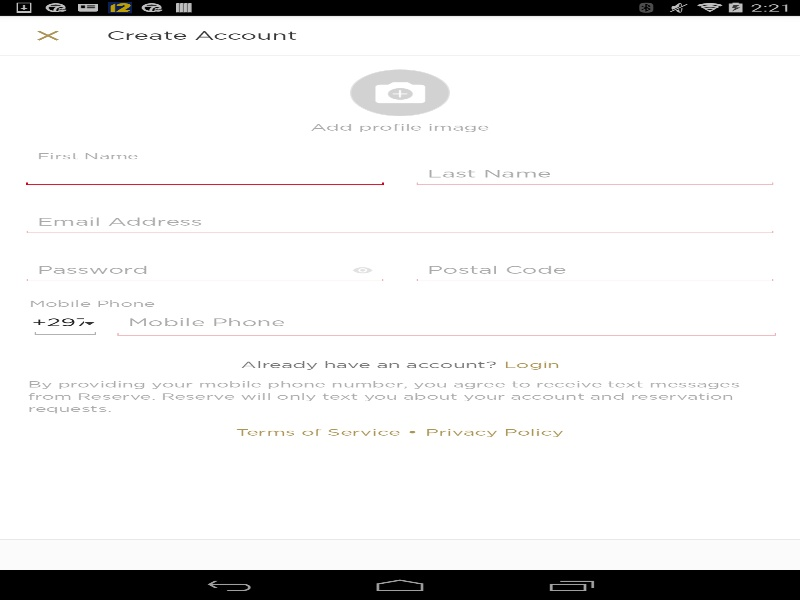Button: (10, 15, 85, 55)
Input: (21, 207, 778, 235), (112, 309, 781, 338), (21, 159, 388, 187), (411, 159, 778, 187), (21, 255, 388, 283), (411, 255, 778, 283), (29, 309, 101, 337)
